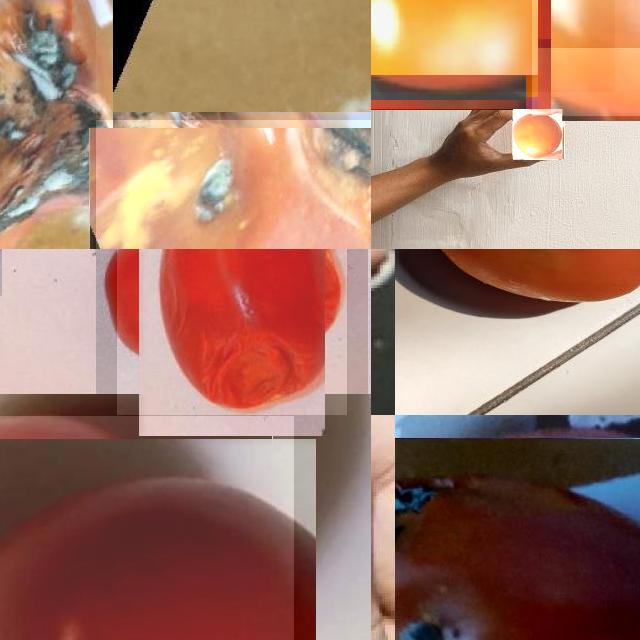Fresh Tomato: (0, 416, 294, 640), (371, 0, 615, 92), (531, 0, 640, 115), (513, 109, 563, 160)
Rotten Tomato: (117, 249, 346, 415), (96, 120, 371, 249), (0, 0, 96, 249)
